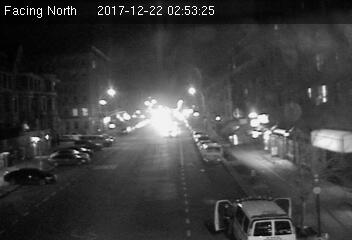police: (209, 189, 304, 240)
truck: (201, 142, 224, 163)
